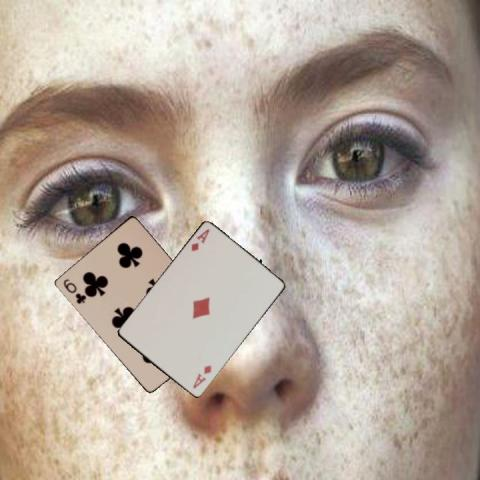6c: (60, 276, 87, 306)
Ad: (189, 362, 213, 390), (188, 226, 211, 253)
